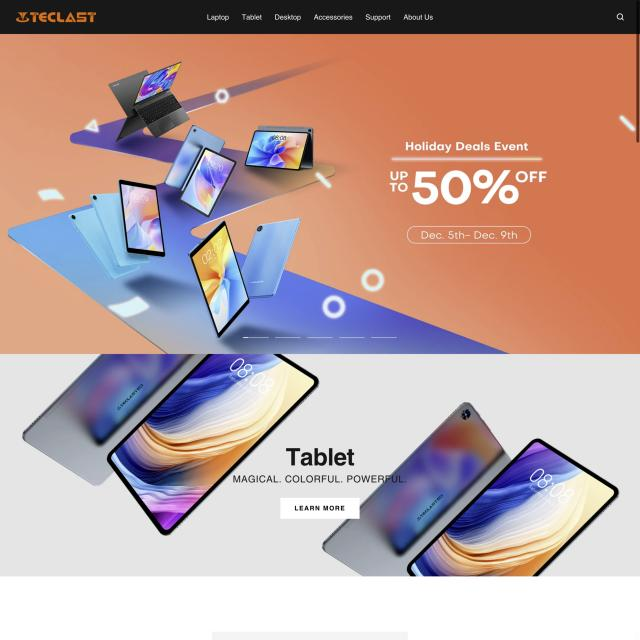CheckBox: (408, 226, 530, 244), (281, 497, 360, 519)
Input field: (232, 473, 407, 488)
bag: (0, 0, 640, 34)
card: (1, 32, 637, 352)
carousel: (614, 12, 626, 22)
copy: (0, 354, 640, 577)
data feed: (420, 230, 520, 242), (293, 502, 347, 513)
date picker: (15, 7, 98, 26)
decoration: (204, 13, 436, 23)
dropdown: (241, 333, 399, 342)
heading: (241, 336, 270, 340), (275, 336, 301, 340), (306, 336, 334, 339), (338, 337, 366, 339), (371, 337, 397, 339)
image: (284, 445, 356, 469)
